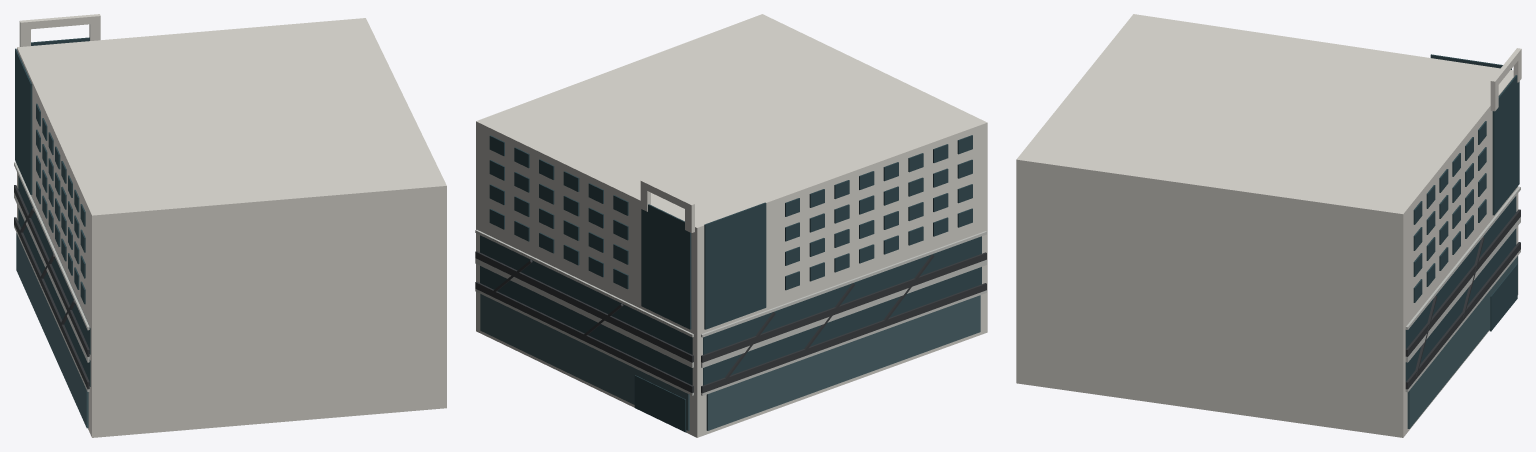
File: bgc_building_0007_lod1.glb
The picture shows the model from 3 angles, left to right: view 1: azimuth 30°, elevation 25°; view 2: azimuth 150°, elevation 25°; view 3: azimuth 270°, elevation 25°; orthographic projection. The views are drawn at different scales.
Parts seen in each view (by area): view 1: BGC_RUNTIME_001_WGC_MASSING_Envelope, BGC_RUNTIME_WGC_9TH_WINDOWS, BGC_RUNTIME_WGC_GROUND_GLAZING, BGC_RUNTIME_WGC_OPEN_BAND_SHADOWS, BGC_RUNTIME_082_WGC_9TH_Corner_Glass, BGC_RUNTIME_WGC_OPEN_BAND_GUARDS, BGC_RUNTIME_WGC_OPEN_BAND_SLABS, BGC_RUNTIME_WGC_ROOF_FRAME; view 2: BGC_RUNTIME_001_WGC_MASSING_Envelope, BGC_RUNTIME_WGC_OPEN_BAND_SHADOWS, BGC_RUNTIME_WGC_GROUND_GLAZING, BGC_RUNTIME_WGC_OPEN_BAND_GUARDS, BGC_RUNTIME_WGC_9TH_WINDOWS, BGC_RUNTIME_WGC_OPEN_BAND_SLABS, BGC_RUNTIME_082_WGC_9TH_Corner_Glass, BGC_RUNTIME_WGC_30TH_WINDOWS, BGC_RUNTIME_081_WGC_30TH_Corner_Glass, BGC_RUNTIME_083_WGC_Entrance_Corner, BGC_RUNTIME_WGC_DIAGONAL_BRACES, BGC_RUNTIME_WGC_ROOF_FRAME; view 3: BGC_RUNTIME_001_WGC_MASSING_Envelope, BGC_RUNTIME_WGC_30TH_WINDOWS, BGC_RUNTIME_WGC_OPEN_BAND_SHADOWS, BGC_RUNTIME_WGC_GROUND_GLAZING, BGC_RUNTIME_081_WGC_30TH_Corner_Glass, BGC_RUNTIME_WGC_OPEN_BAND_GUARDS, BGC_RUNTIME_WGC_OPEN_BAND_SLABS, BGC_RUNTIME_083_WGC_Entrance_Corner, BGC_RUNTIME_WGC_ROOF_FRAME, BGC_RUNTIME_WGC_DIAGONAL_BRACES.
Boxes of the visible parts, box(x1,y1,x2,y2) form: BGC_RUNTIME_001_WGC_MASSING_Envelope: box(17, 18, 446, 437); BGC_RUNTIME_WGC_9TH_WINDOWS: box(36, 103, 85, 304); BGC_RUNTIME_WGC_GROUND_GLAZING: box(16, 233, 88, 428); BGC_RUNTIME_WGC_OPEN_BAND_SHADOWS: box(18, 175, 90, 386); BGC_RUNTIME_082_WGC_9TH_Corner_Glass: box(15, 48, 32, 194); BGC_RUNTIME_WGC_OPEN_BAND_GUARDS: box(14, 185, 89, 389); BGC_RUNTIME_WGC_OPEN_BAND_SLABS: box(14, 162, 89, 391); BGC_RUNTIME_WGC_ROOF_FRAME: box(19, 14, 100, 46); BGC_RUNTIME_001_WGC_MASSING_Envelope: box(476, 14, 987, 437); BGC_RUNTIME_WGC_OPEN_BAND_SHADOWS: box(480, 235, 981, 385); BGC_RUNTIME_WGC_GROUND_GLAZING: box(480, 294, 980, 430); BGC_RUNTIME_WGC_OPEN_BAND_GUARDS: box(475, 251, 986, 393); BGC_RUNTIME_WGC_9TH_WINDOWS: box(785, 135, 972, 290); BGC_RUNTIME_WGC_OPEN_BAND_SLABS: box(475, 230, 986, 395); BGC_RUNTIME_082_WGC_9TH_Corner_Glass: box(704, 202, 766, 329); BGC_RUNTIME_WGC_30TH_WINDOWS: box(489, 135, 628, 289); BGC_RUNTIME_081_WGC_30TH_Corner_Glass: box(641, 204, 691, 329); BGC_RUNTIME_083_WGC_Entrance_Corner: box(634, 375, 686, 432); BGC_RUNTIME_WGC_DIAGONAL_BRACES: box(490, 254, 934, 384); BGC_RUNTIME_WGC_ROOF_FRAME: box(640, 179, 694, 232); BGC_RUNTIME_001_WGC_MASSING_Envelope: box(1016, 14, 1518, 437); BGC_RUNTIME_WGC_30TH_WINDOWS: box(1413, 121, 1486, 302); BGC_RUNTIME_WGC_OPEN_BAND_SHADOWS: box(1405, 196, 1516, 381); BGC_RUNTIME_WGC_GROUND_GLAZING: box(1407, 256, 1517, 428); BGC_RUNTIME_081_WGC_30TH_Corner_Glass: box(1492, 75, 1519, 215); BGC_RUNTIME_WGC_OPEN_BAND_GUARDS: box(1405, 209, 1520, 389); BGC_RUNTIME_WGC_OPEN_BAND_SLABS: box(1405, 186, 1520, 392); BGC_RUNTIME_083_WGC_Entrance_Corner: box(1489, 264, 1517, 331); BGC_RUNTIME_WGC_ROOF_FRAME: box(1490, 48, 1521, 111); BGC_RUNTIME_WGC_DIAGONAL_BRACES: box(1415, 237, 1484, 377).
Size of the model in its own units: 53.04 by 30.5 by 56.3.
